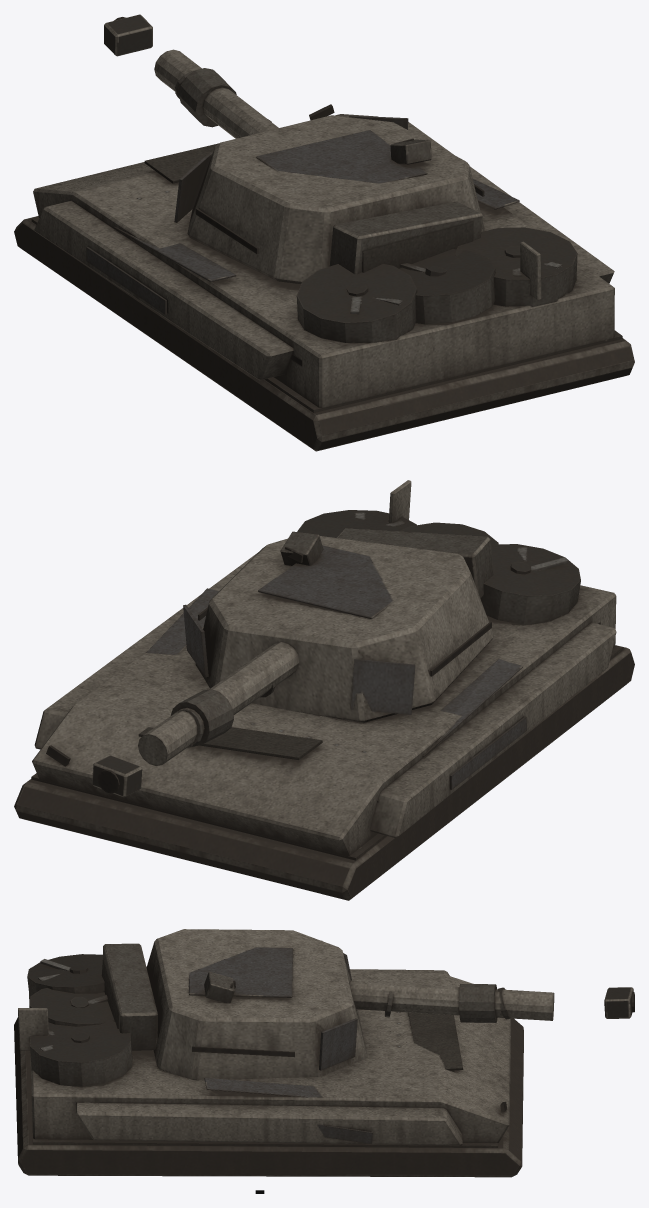
Rendered from ord_tempest_wreck.fbx.
The picture shows the model from 3 angles, top to bottom: view 1: azimuth 30°, elevation 25°; view 2: azimuth 150°, elevation 25°; view 3: azimuth 270°, elevation 25°; orthographic projection. The views are drawn at different scales.
Parts seen in each view (by area): view 1: base_bar, turret_bar, barrel_bar; view 2: base_bar, turret_bar, barrel_bar; view 3: base_bar, turret_bar, barrel_bar.
Boxes of the visible parts, box(x1,y1,x2,y2) form: base_bar: box(14, 104, 634, 451); turret_bar: box(174, 115, 484, 283); barrel_bar: box(104, 14, 278, 138); base_bar: box(14, 480, 634, 900); turret_bar: box(183, 528, 493, 722); barrel_bar: box(92, 641, 299, 797); base_bar: box(14, 954, 523, 1177); turret_bar: box(101, 929, 367, 1080); barrel_bar: box(350, 980, 634, 1022).
Bounding box in the file's own units: 834 × 605 × 1429.
2 materials, 2 textured.
